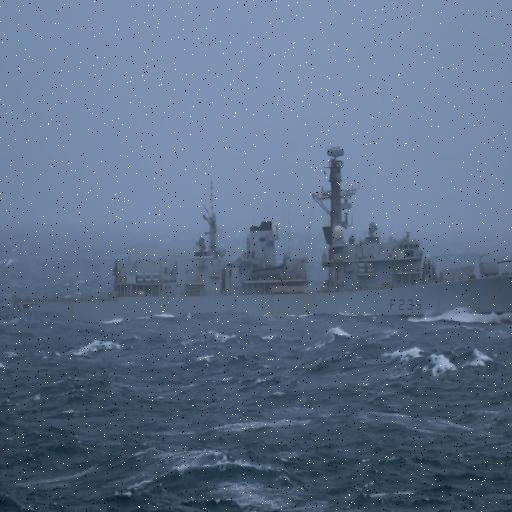Fragata: (8, 135, 512, 335)
